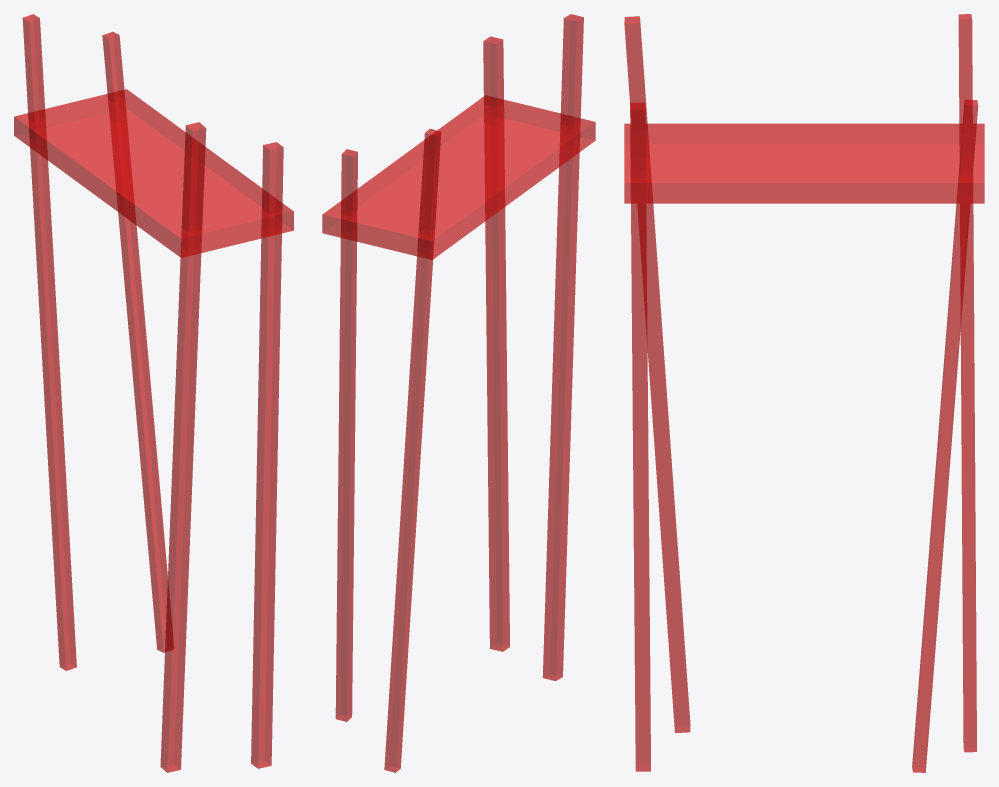
The model's file is SM_Bld_Rickety_Dock_01_Collision.fbx.
The picture shows the model from 3 angles, left to right: view 1: azimuth 30°, elevation 25°; view 2: azimuth 150°, elevation 25°; view 3: azimuth 270°, elevation 25°; orthographic projection. The views are drawn at different scales.
Parts seen in each view (by area): view 1: SM_Bld_Rickety_Dock_01_Collision; view 2: SM_Bld_Rickety_Dock_01_Collision; view 3: SM_Bld_Rickety_Dock_01_Collision.
Boxes of the visible parts, x1,y1,x2,y2 form: SM_Bld_Rickety_Dock_01_Collision: (14, 14, 293, 772); SM_Bld_Rickety_Dock_01_Collision: (322, 14, 595, 772); SM_Bld_Rickety_Dock_01_Collision: (624, 14, 984, 772).
Size of the model in its own units: 173 by 860 by 393.
